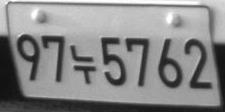2: (183, 37, 213, 89)
5: (157, 37, 183, 89), (100, 36, 126, 86)
7: (125, 37, 151, 87), (41, 34, 65, 82)
9: (15, 33, 40, 81)
누: (69, 44, 97, 85)
